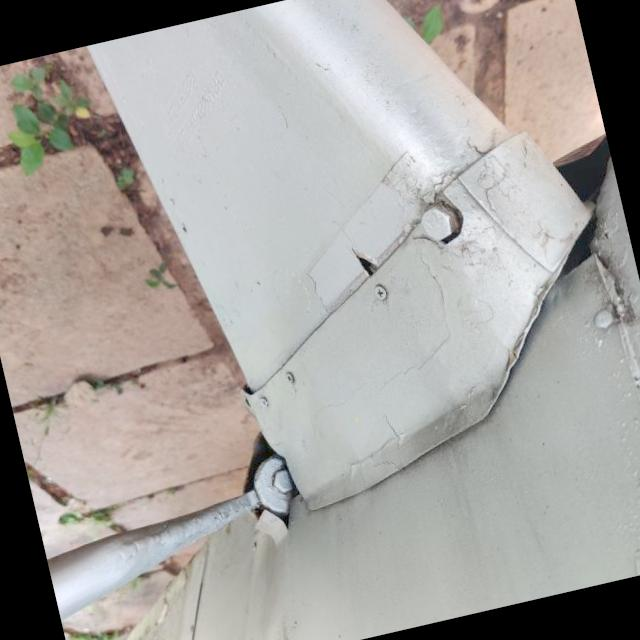crack: (326, 217, 416, 314)
